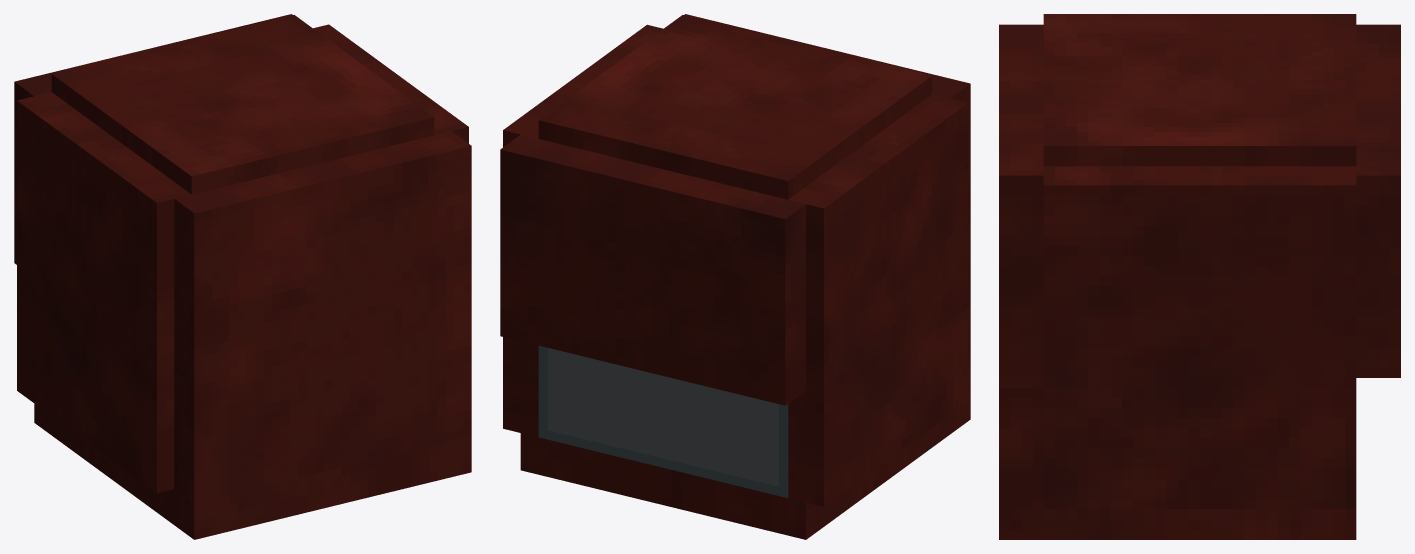
Rendered from hazmatHead.gltf.
The picture shows the model from 3 angles, left to right: view 1: azimuth 30°, elevation 25°; view 2: azimuth 150°, elevation 25°; view 3: azimuth 270°, elevation 25°; orthographic projection. The views are drawn at different scales.
Visible parts, largest first — view 1: back, right, top, Chin, left, front piece; view 2: front piece, right, top, Visor, Chin, left, back; view 3: left, top, back, front piece, Chin.
Part boxes in pixels (bbox=[...]): back: bbox=[174, 131, 471, 503]; right: bbox=[17, 92, 191, 493]; top: bbox=[51, 15, 434, 194]; Chin: bbox=[34, 404, 471, 539]; left: bbox=[313, 24, 468, 143]; front piece: bbox=[14, 14, 292, 264]; front piece: bbox=[500, 134, 805, 405]; right: bbox=[788, 94, 967, 506]; top: bbox=[538, 15, 932, 199]; Visor: bbox=[538, 345, 788, 497]; Chin: bbox=[520, 382, 970, 539]; left: bbox=[503, 24, 663, 437]; back: bbox=[684, 14, 970, 383]; left: bbox=[1043, 166, 1356, 508]; top: bbox=[1043, 14, 1356, 166]; back: bbox=[999, 24, 1043, 499]; front piece: bbox=[1356, 24, 1400, 377]; Chin: bbox=[999, 499, 1356, 539].
Bounding box in the file's own units: 1.12 × 1.19 × 1.12.
Materials: 1 (1 with a texture image).
